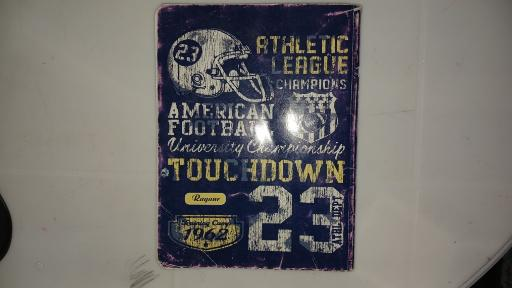notebook: (156, 3, 359, 272)
